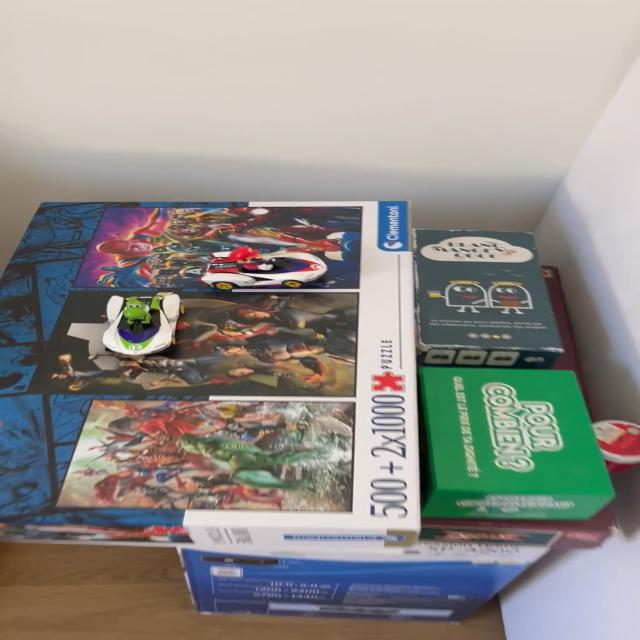mario: (199, 246, 340, 295)
yoshi: (97, 288, 189, 360)
